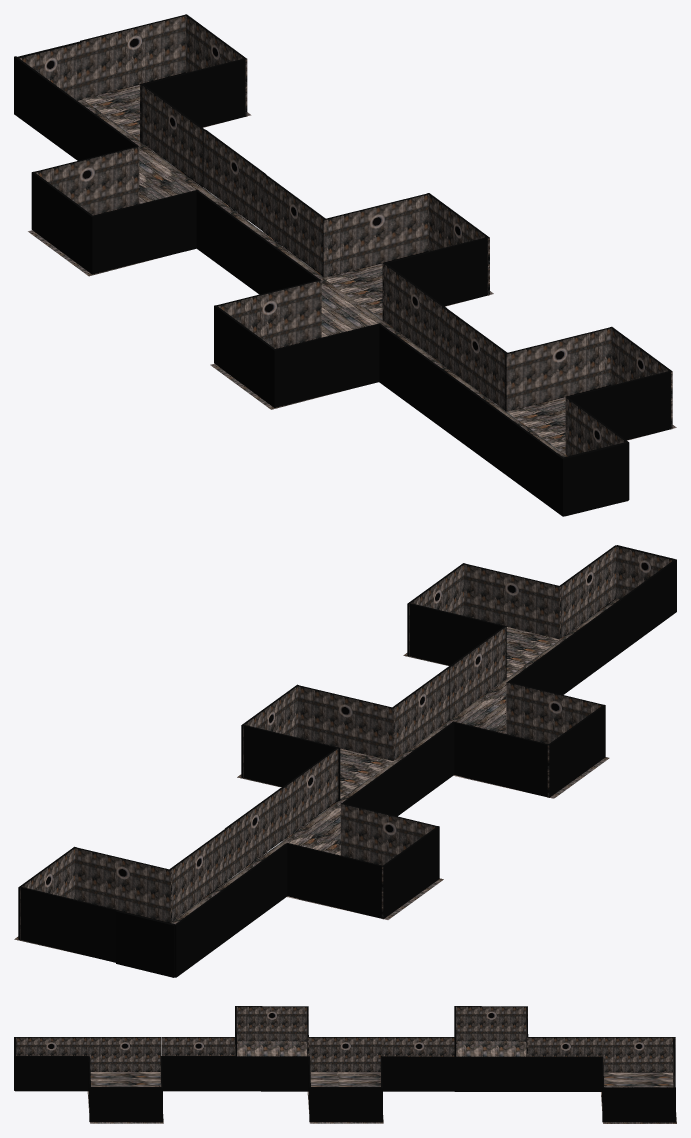
Rendered from shipwreckscene6.fbx.
3 renders of one model, top to bottom at view 1: azimuth 30°, elevation 25°; view 2: azimuth 150°, elevation 25°; view 3: azimuth 270°, elevation 25°, orthographic. The views are drawn at different scales.
Parts seen in each view (by area): view 1: polySurface1034; view 2: polySurface1034; view 3: polySurface1034.
Part boxes in pixels (box(x1,y1,x2,y2)): polySurface1034: box(14, 14, 676, 516); polySurface1034: box(14, 545, 676, 977); polySurface1034: box(14, 1006, 676, 1123).
Bounding box in the file's own units: 109 × 21.12 × 361.
7 materials, 7 textured.
